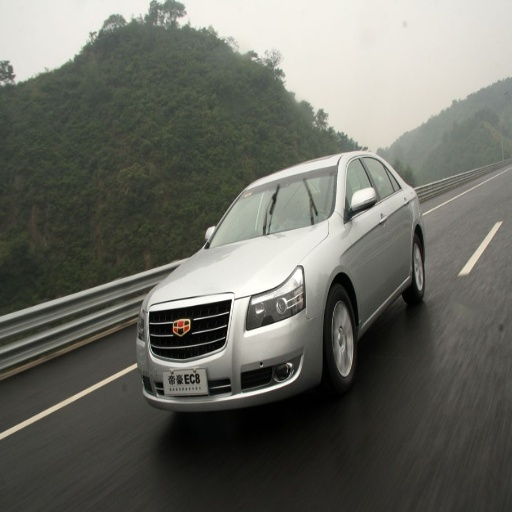front_bumper: (138, 289, 323, 408)
front_glass: (209, 170, 334, 246)
front_left_door: (343, 155, 393, 318)
